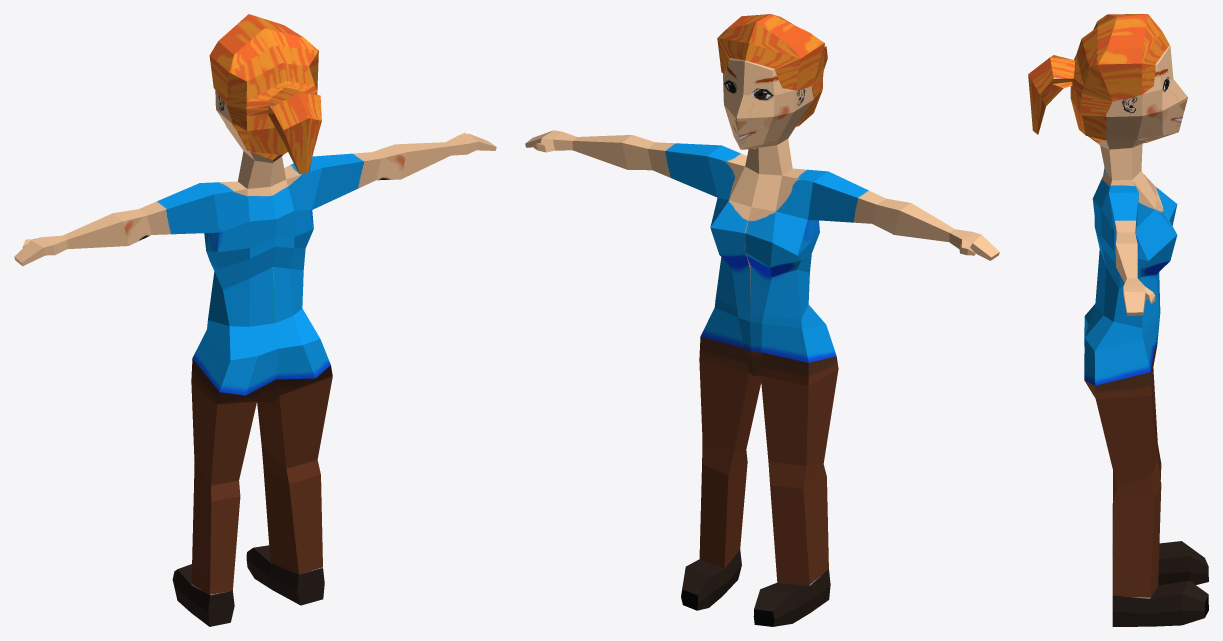
Rendered from Ivy Model 1.fbx.
3 views of the same model, side by side, from view 1: azimuth 30°, elevation 25°; view 2: azimuth 150°, elevation 25°; view 3: azimuth 270°, elevation 25° (orthographic).
Visible parts, largest first — view 1: Cube; view 2: Cube; view 3: Cube.
Part boxes in pixels (<box>): Cube: <box>14,14,496,626</box>; Cube: <box>525,14,999,626</box>; Cube: <box>1028,14,1208,626</box>.
Size of the model in its own units: 939 by 1110 by 310.
